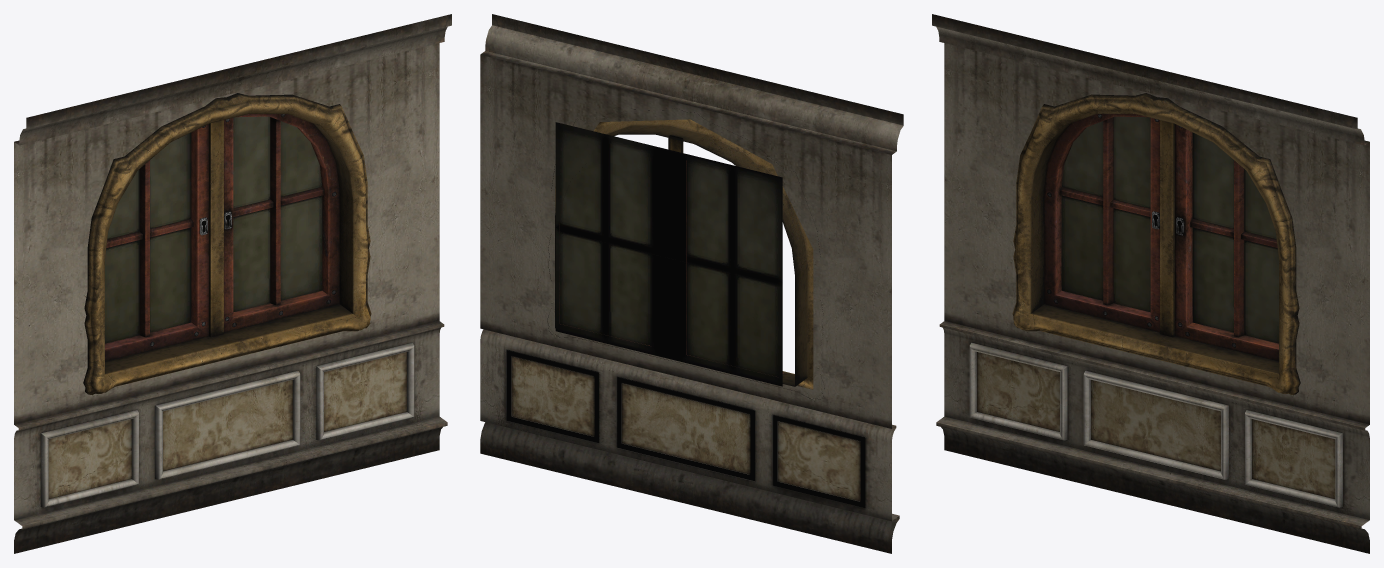
Rendered from window03_yellow.dae.
3 views of the same model, side by side, from view 1: azimuth 30°, elevation 25°; view 2: azimuth 150°, elevation 25°; view 3: azimuth 330°, elevation 25° (orthographic). The views are drawn at different scales.
Visible parts, largest first — view 1: window03, window03_frame, window03_glass; view 2: window03, window03_glass, window03_frame; view 3: window03, window03_frame, window03_glass.
Part boxes in pixels (x1=…): window03: x1=14, y1=14, x2=451, y2=553; window03_frame: x1=83, y1=93, x2=371, y2=394; window03_glass: x1=105, y1=116, x2=322, y2=343; window03: x1=480, y1=14, x2=903, y2=553; window03_glass: x1=555, y1=122, x2=782, y2=386; window03_frame: x1=547, y1=109, x2=824, y2=399; window03: x1=932, y1=14, x2=1369, y2=553; window03_frame: x1=1012, y1=93, x2=1300, y2=394; window03_glass: x1=1061, y1=116, x2=1278, y2=343.
Size of the model in its own units: 4 by 4 by 0.488.
